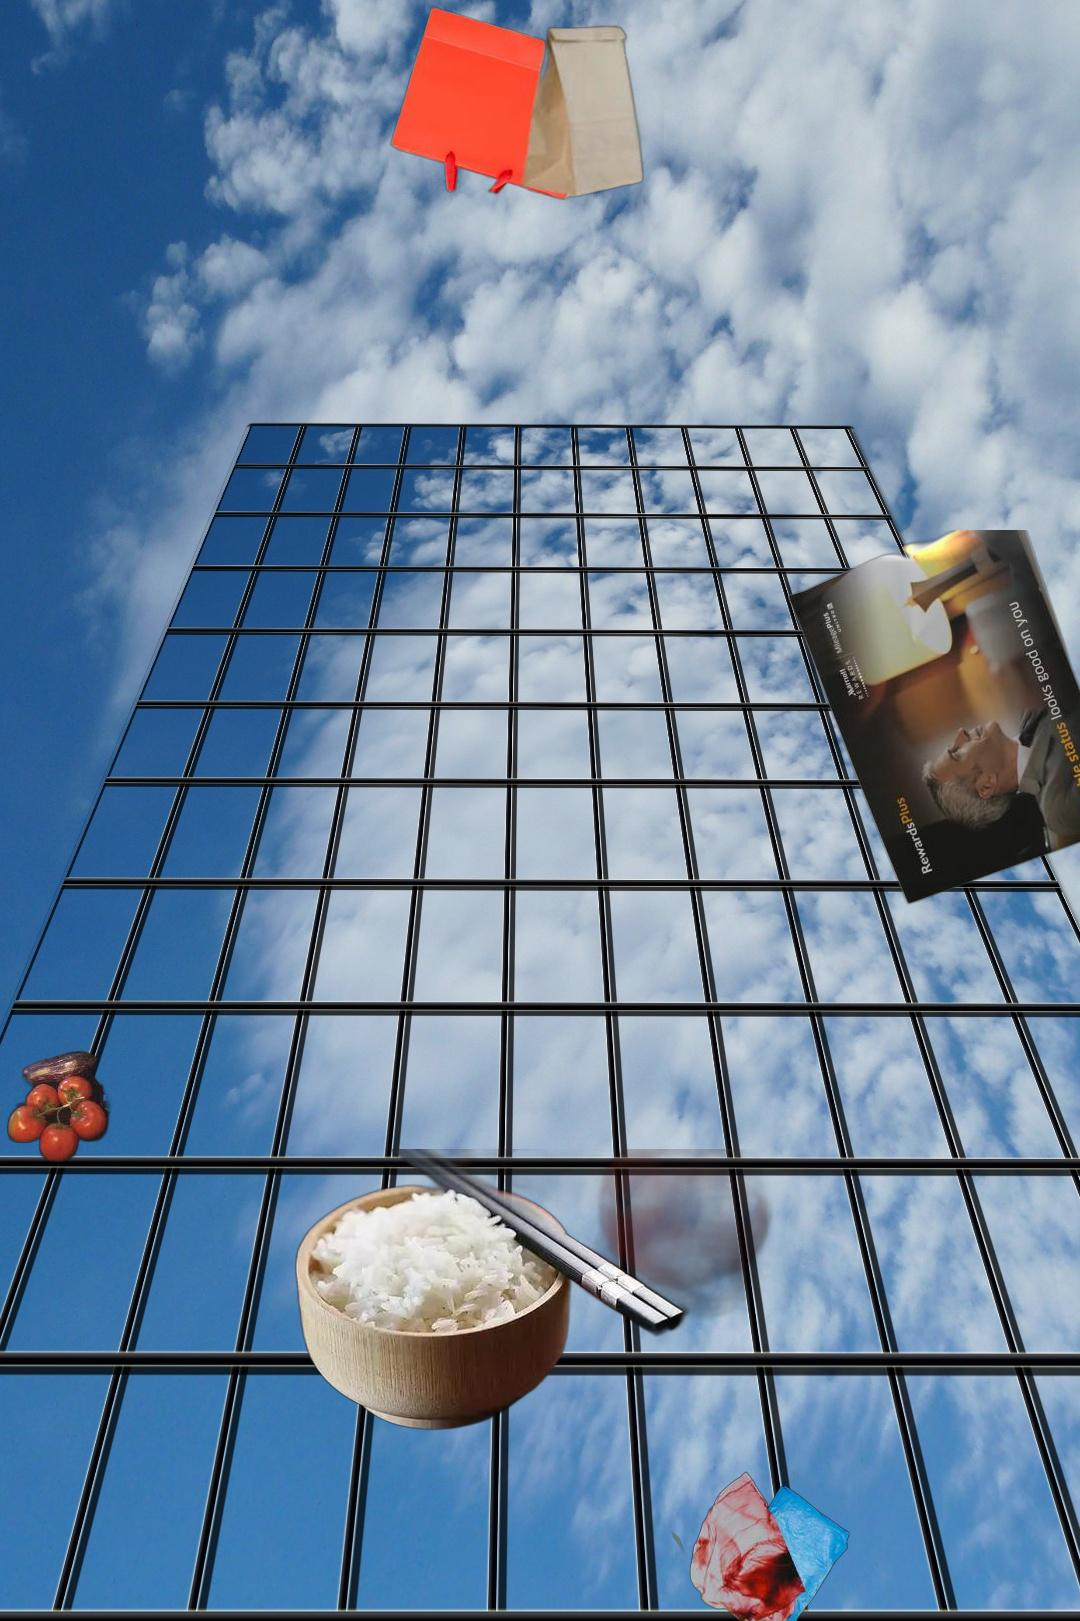biological: (290, 1149, 774, 1433), (4, 1049, 116, 1164)
paper: (787, 530, 1080, 908), (1079, 980, 1080, 1363)
paper-bag: (388, 4, 664, 202)
plastic-bag: (667, 1472, 850, 1621)
